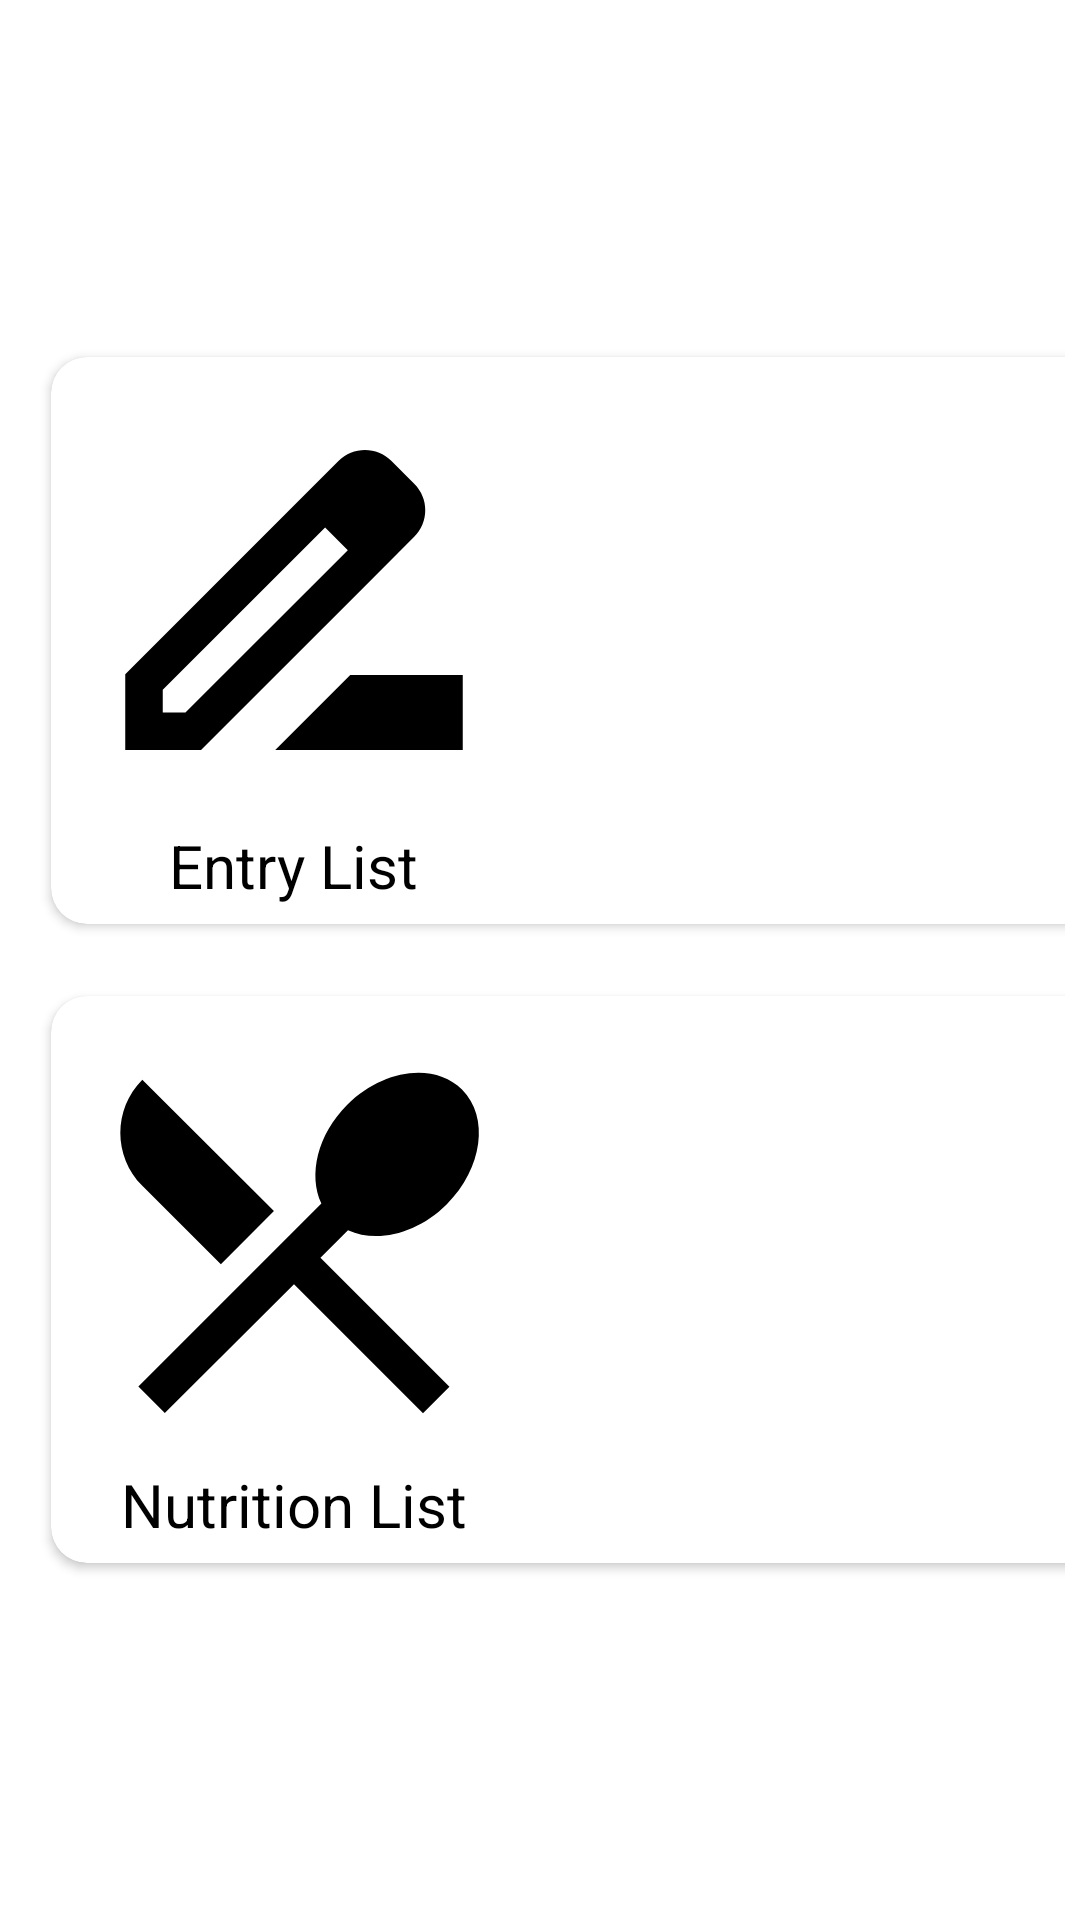

Screen size 1080px×1920px. Icon name, then its center in pixels as [x,y]:
rabbit entry: [294,600]
rabbit feeding: [299,1242]
